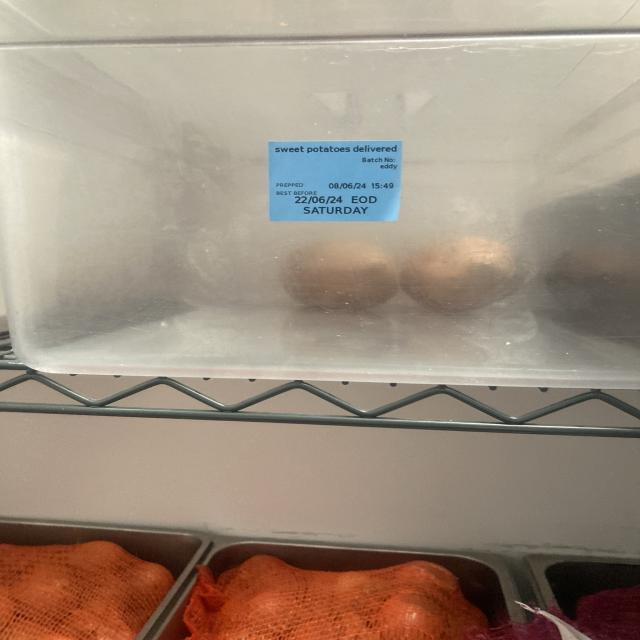product-labels: (267, 141, 403, 222)
